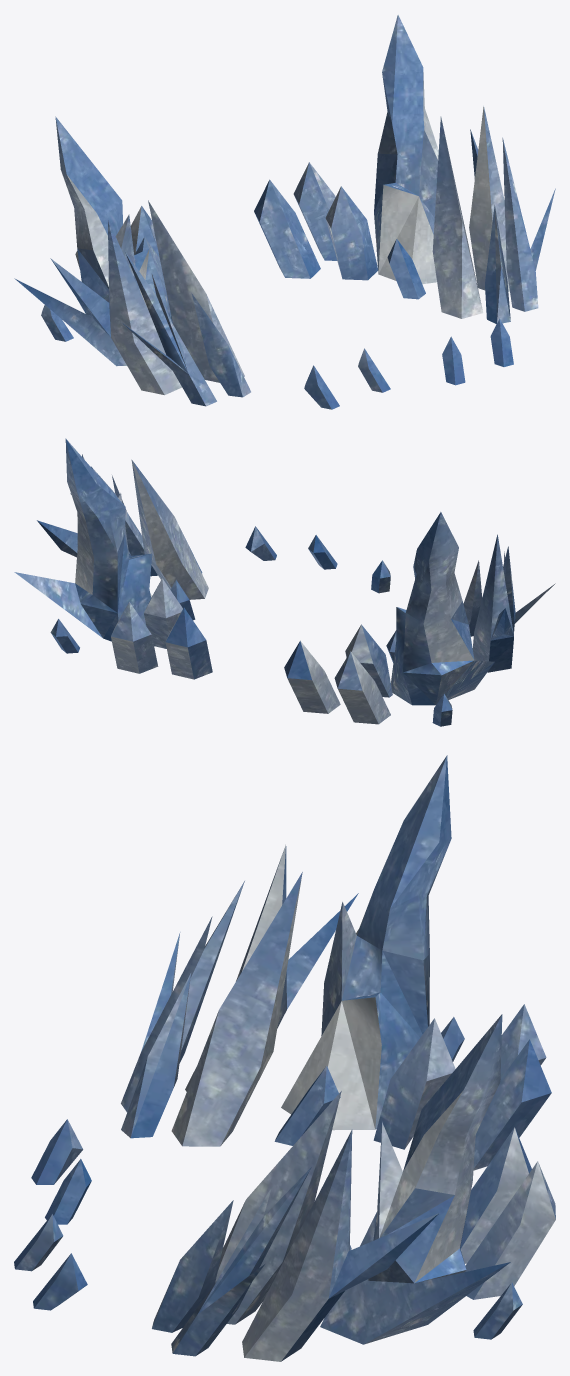
3 renders of one model, top to bottom at view 1: azimuth 30°, elevation 25°; view 2: azimuth 150°, elevation 25°; view 3: azimuth 270°, elevation 25°, orthographic. The views are drawn at different scales.
Visible parts, largest first — view 1: aura_winter_lord; view 2: aura_winter_lord; view 3: aura_winter_lord.
Part boxes in pixels (x1,y1,x2,y2): aura_winter_lord: (14, 15, 555, 409); aura_winter_lord: (14, 438, 555, 726); aura_winter_lord: (14, 755, 555, 1361).
Bounding box in the file's own units: 2.71 × 1.18 × 1.78.
1 material, 1 textured.
